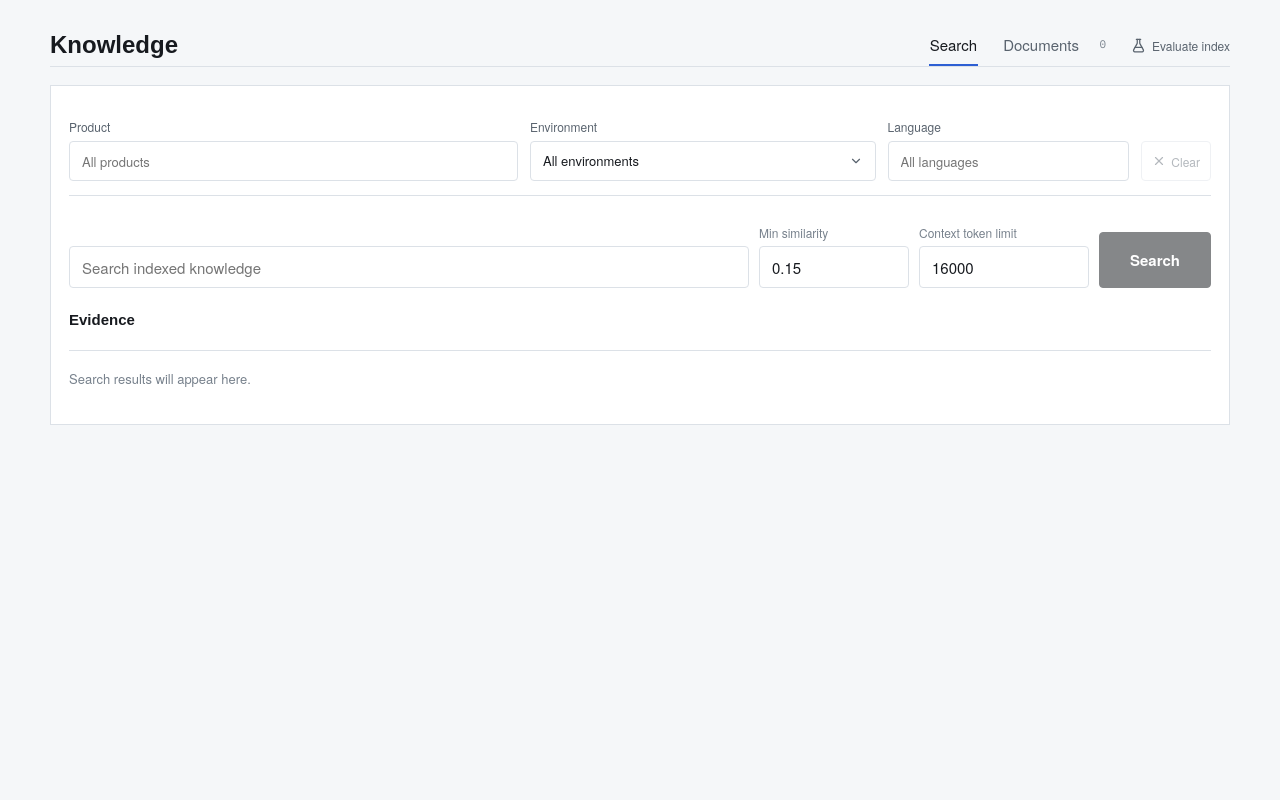
KnowledgePanel navigation › keeps search and documents in Knowledge and links to evaluation
Expected: the field labelled "Search indexed knowledge" is shown, [69,246,749,288]
Click the tab "Documents 0".
click(1055, 45)  # box [1002,24,1107,66]
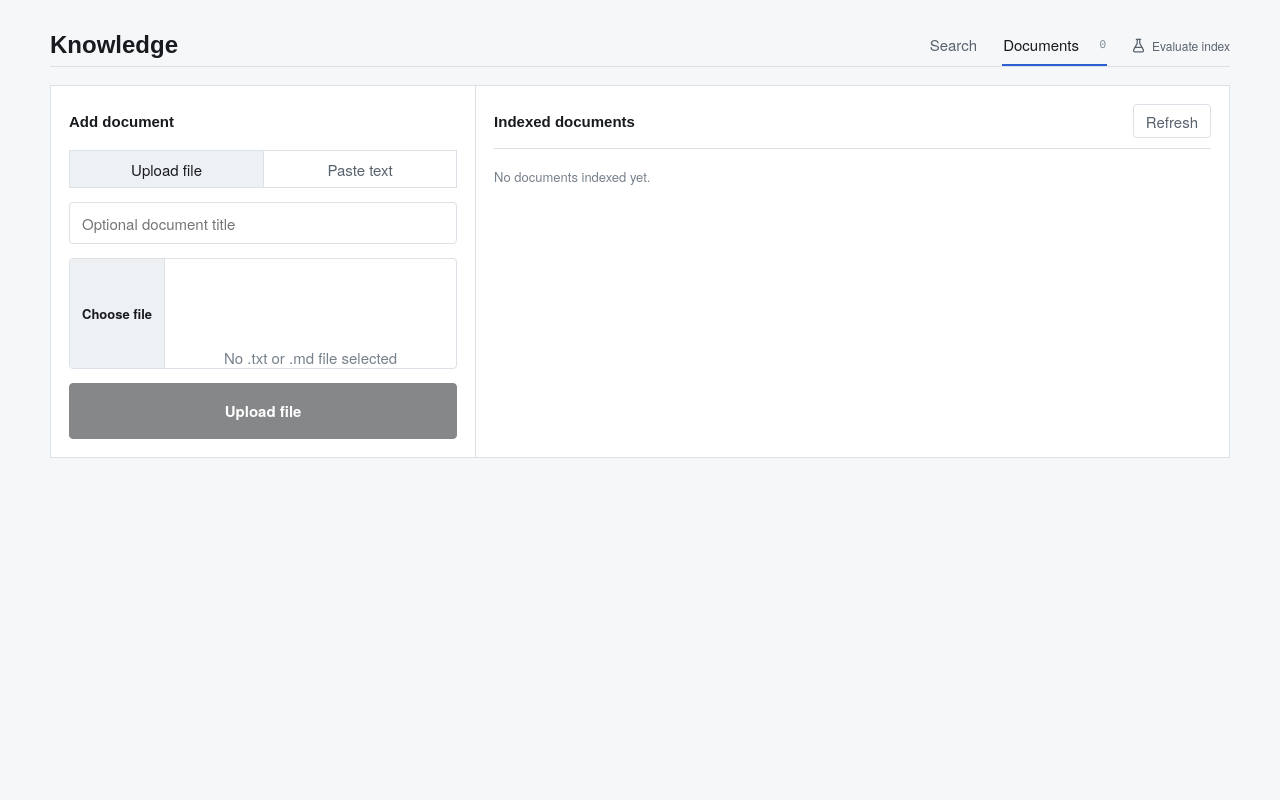
Expected: the field labelled "Search indexed knowledge" is not shown
Expected: the heading "Add document" is shown, [69,112,174,130]
Click the tab "Paste text".
click(360, 169)  # box [263,151,456,187]
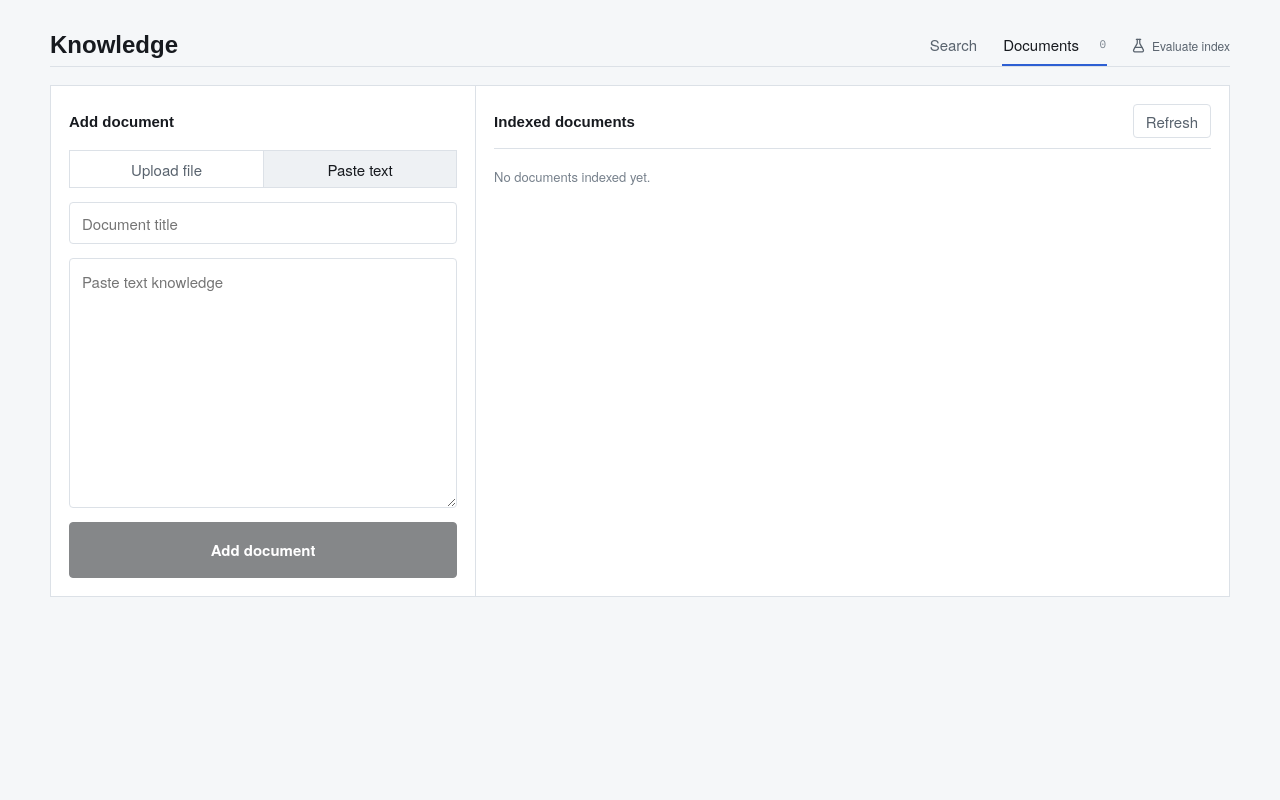
Expected: the text box named "Document content" is shown, [69,258,457,508]
